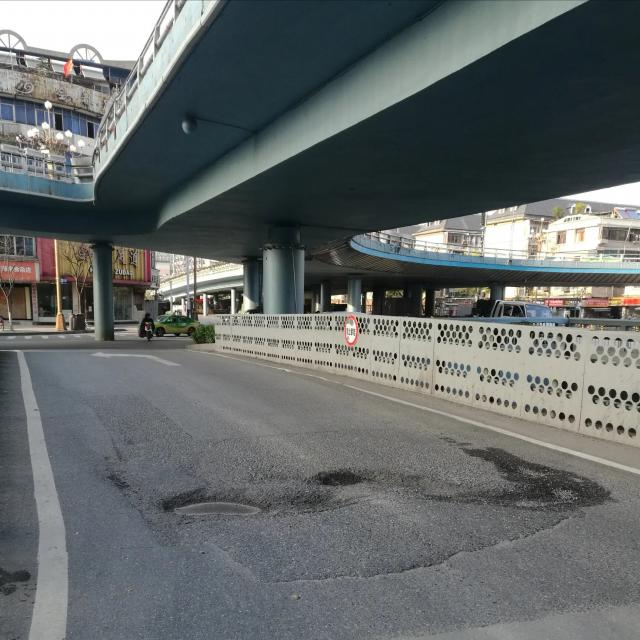Pothole: (456, 445, 614, 516), (162, 495, 270, 522), (306, 474, 373, 488)
